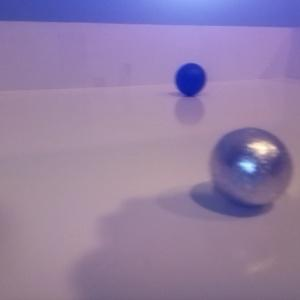alive_ball: (210, 127, 292, 205)
dead_ball: (174, 62, 206, 96)
